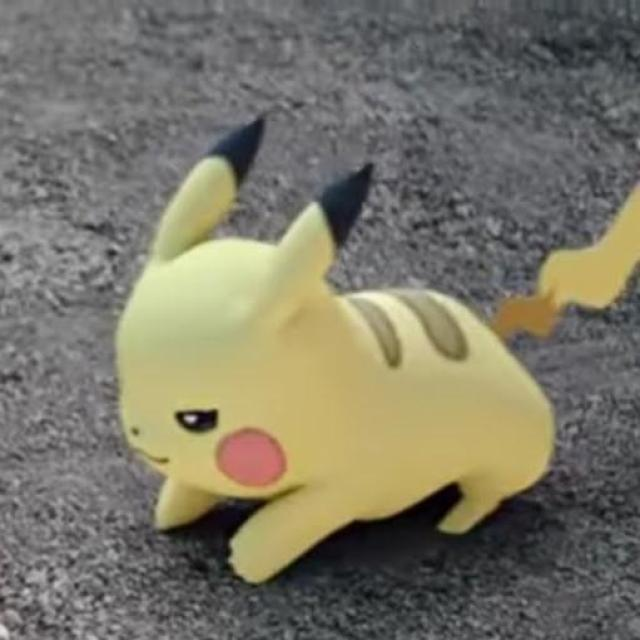pikachu: (116, 115, 640, 586)
